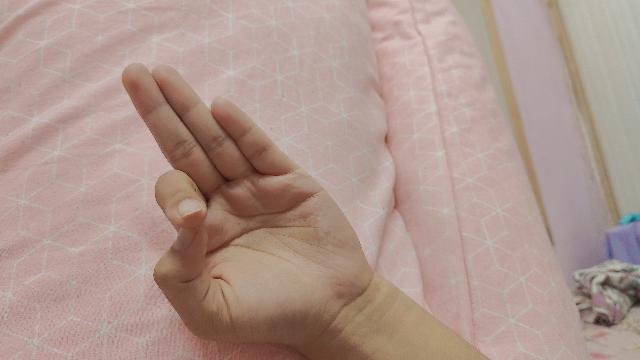aral: (122, 65, 489, 360)
